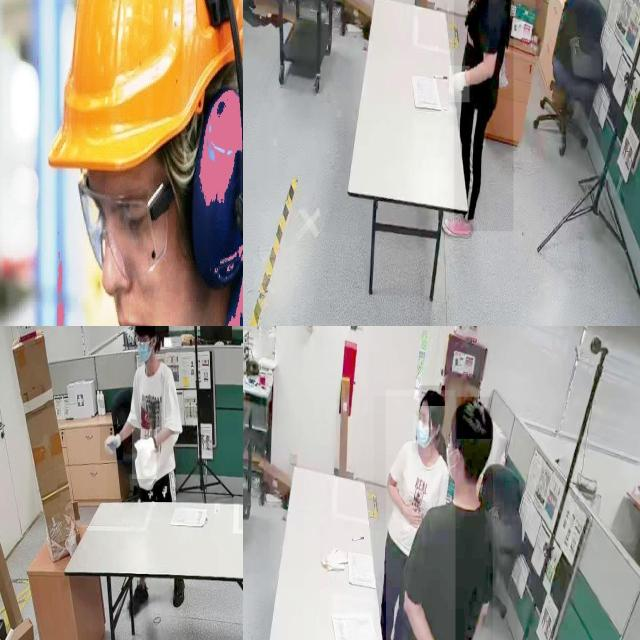Ear-protection: (188, 0, 243, 312)
face_mask: (135, 327, 155, 363), (414, 415, 431, 457)
hand_glove: (132, 429, 157, 480), (100, 425, 124, 461), (449, 66, 470, 103)
hand_noglove: (403, 503, 422, 529)
head_helmet: (51, 0, 243, 163)
head_nohelmet: (456, 397, 492, 440), (420, 385, 446, 407)
person: (373, 396, 493, 640), (386, 390, 455, 640), (106, 326, 181, 519), (454, 0, 514, 231)
shoes: (441, 207, 475, 240), (126, 579, 150, 617)
